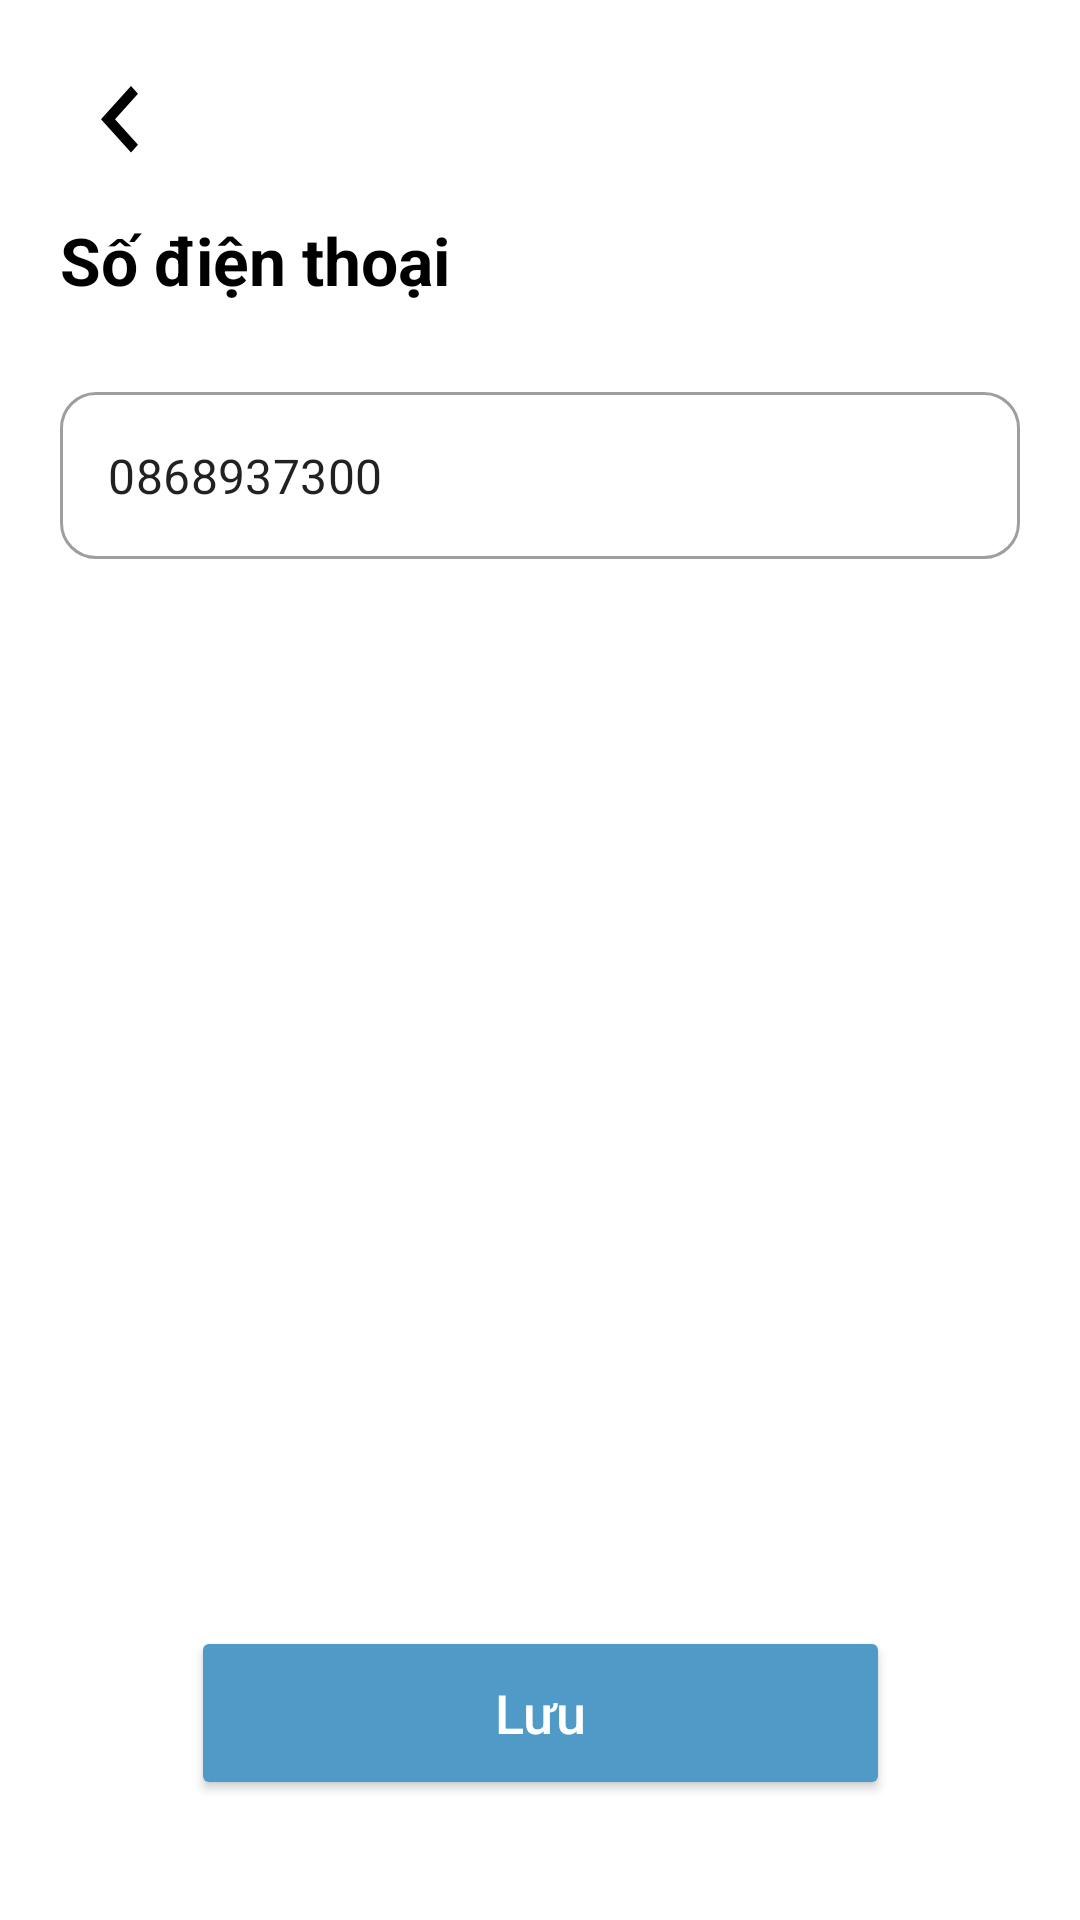

Named icons in this screenshot (1080 x 1920) and their bounding boxes, Rect(x1, y1, x2, y2):
arrow back: Rect(101, 86, 138, 153)
